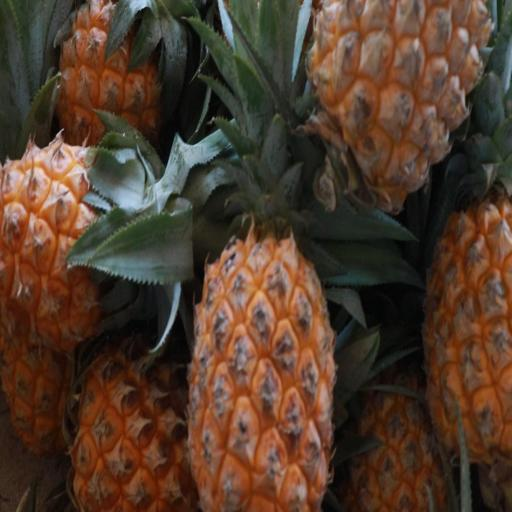Pineapple - v8 v1: (183, 193, 339, 512), (305, 0, 500, 225), (0, 129, 146, 375), (418, 150, 512, 475), (68, 332, 206, 512), (53, 0, 174, 191)
